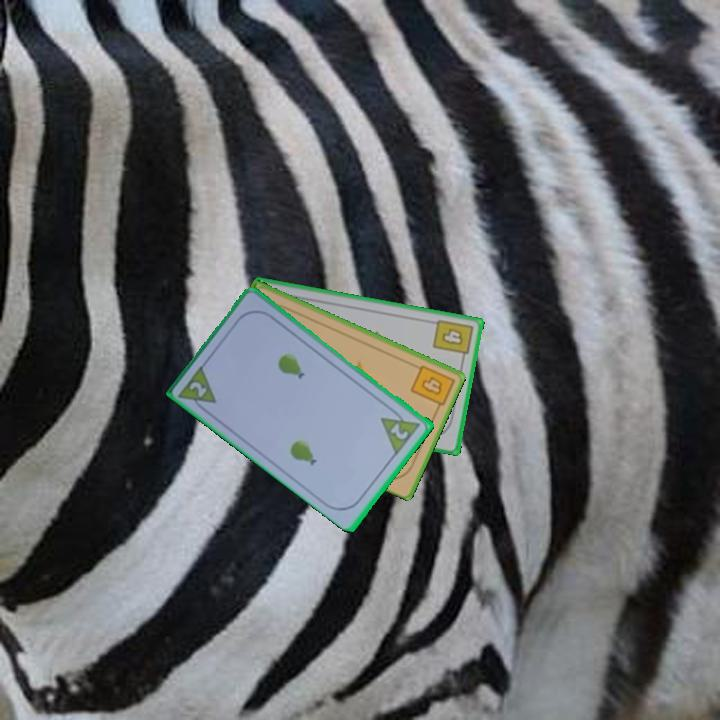2p: (377, 403, 424, 457), (176, 361, 220, 417)
4b: (407, 361, 457, 414), (429, 315, 476, 364)
